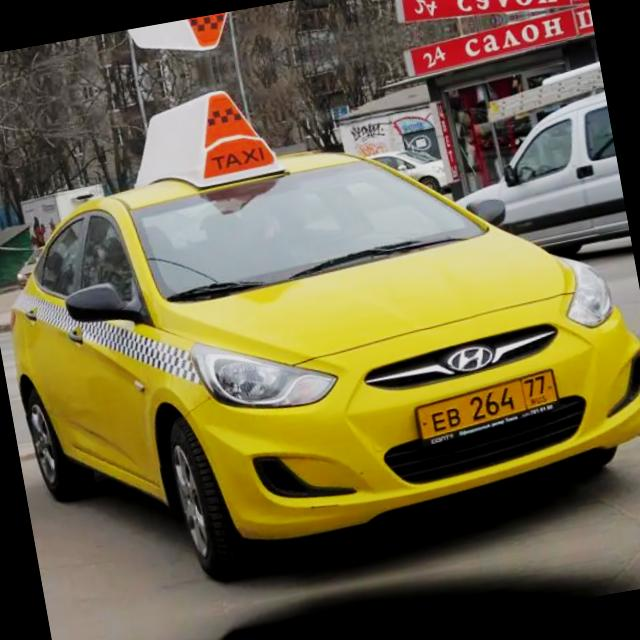taxi: (402, 360, 571, 450)
